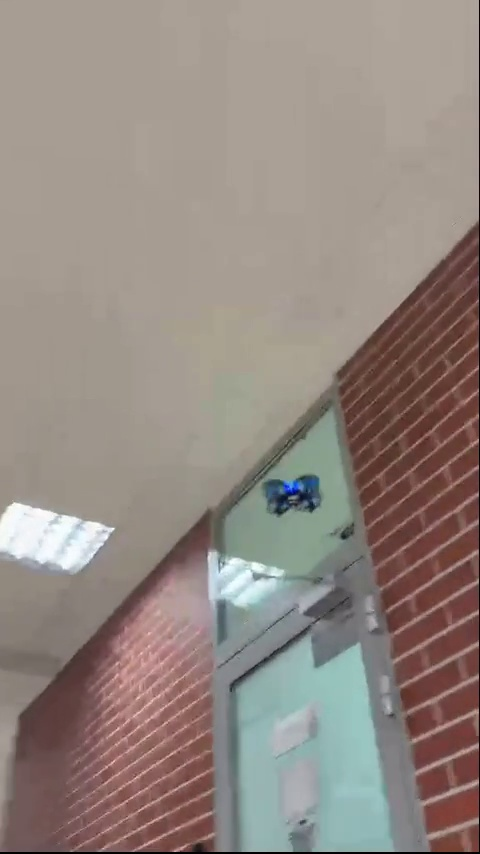drone: (261, 473, 325, 517)
